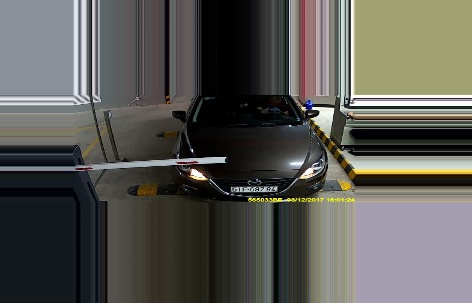plate: (232, 182, 279, 194)
